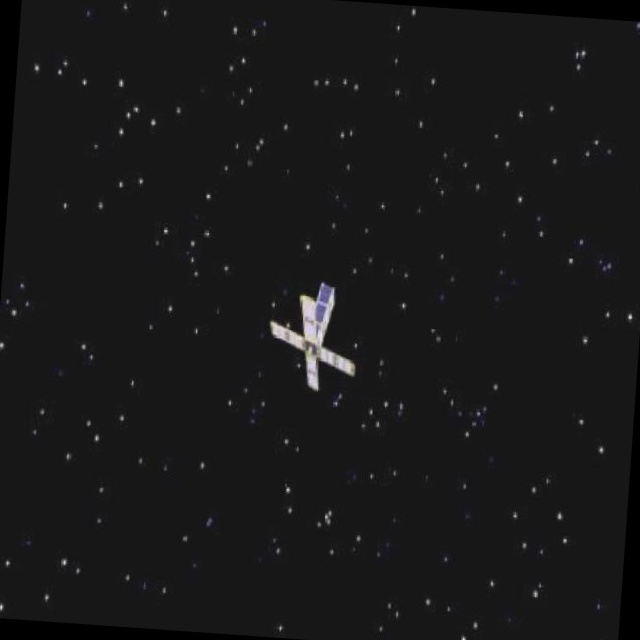medium_debris: (248, 268, 370, 405)
